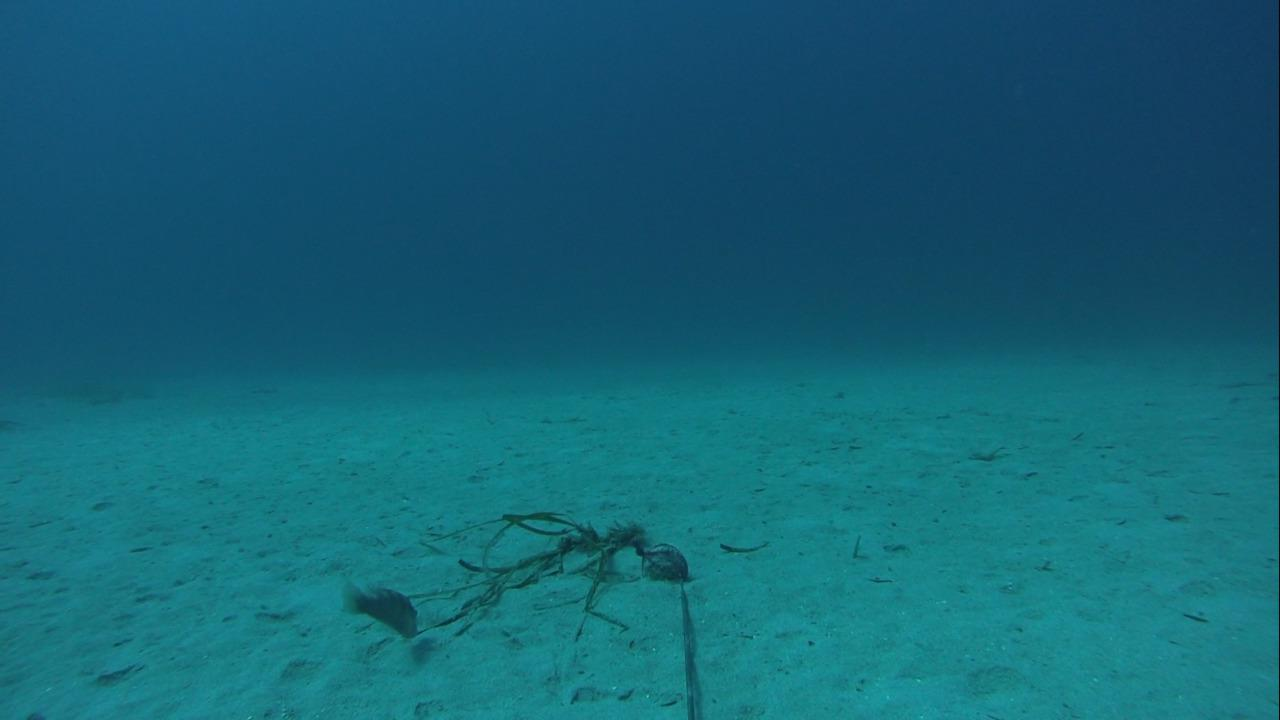raor: (334, 571, 425, 638)
